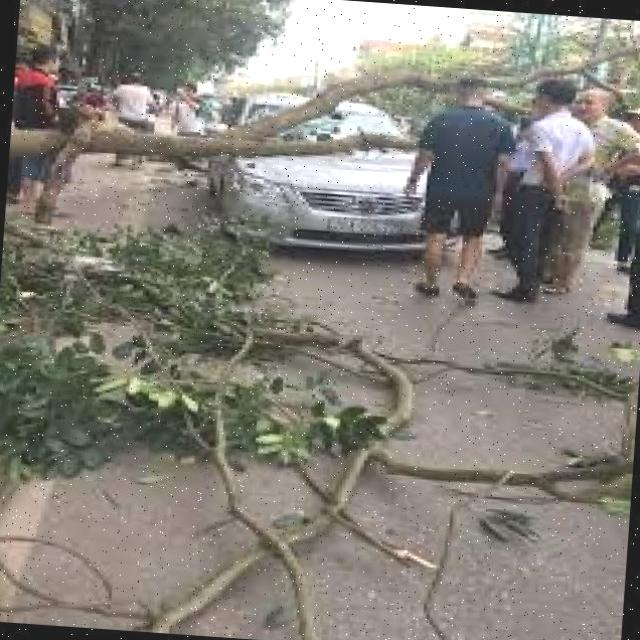fallen_object: (6, 5, 640, 227)
